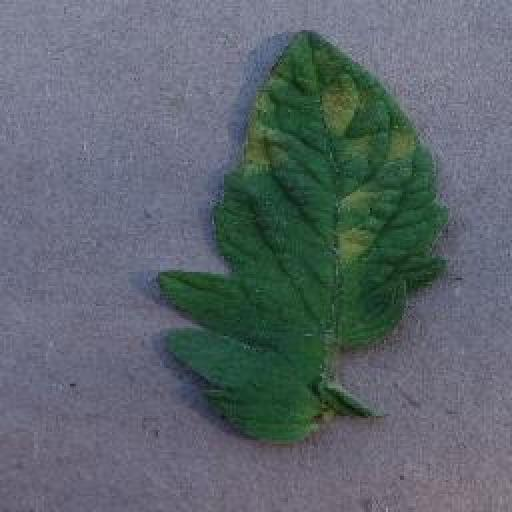Leaf Mold: (151, 29, 448, 443)
